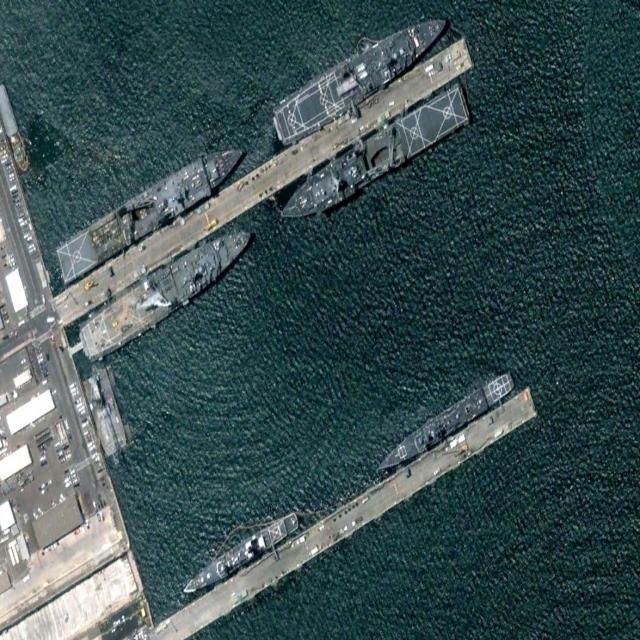Frigate: (374, 366, 516, 479)
Hovercraft: (8, 129, 32, 174)
Landing: (275, 81, 473, 235), (53, 134, 249, 284), (75, 213, 259, 368), (269, 1, 454, 151)
Other Ship: (179, 509, 300, 602)
